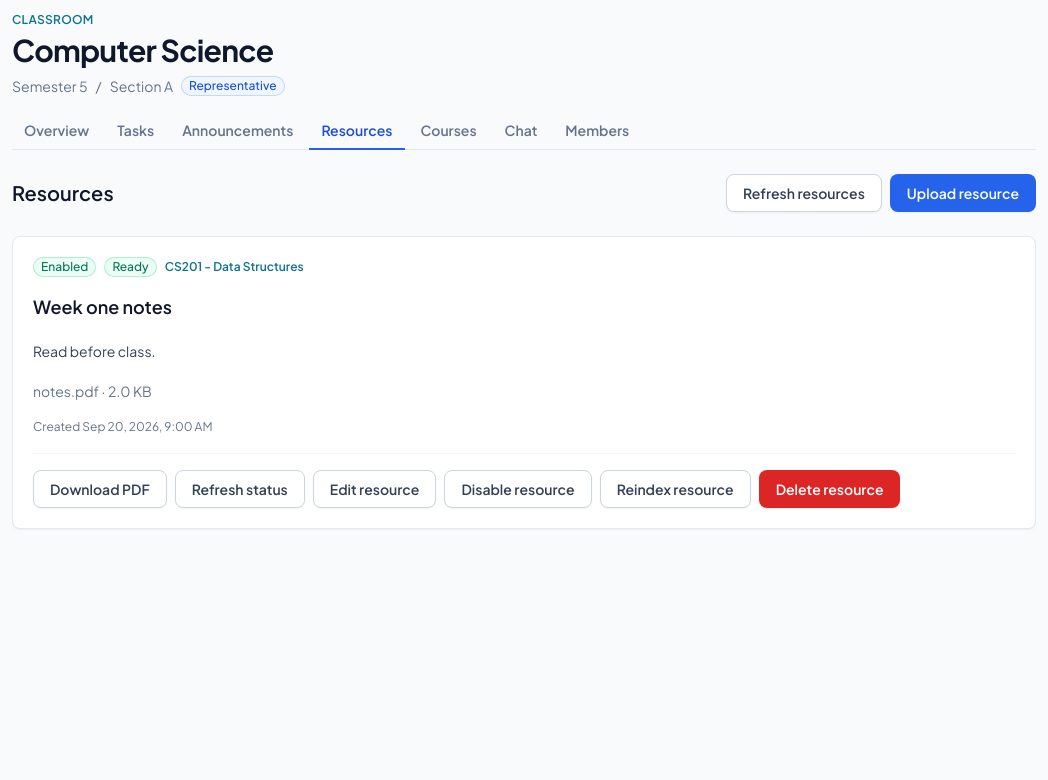
Test: class resources › shows conflict errors from reindexing
Click the button "Reindex resource" at (675, 489), box top-left (600, 470), bottom-right (751, 508)
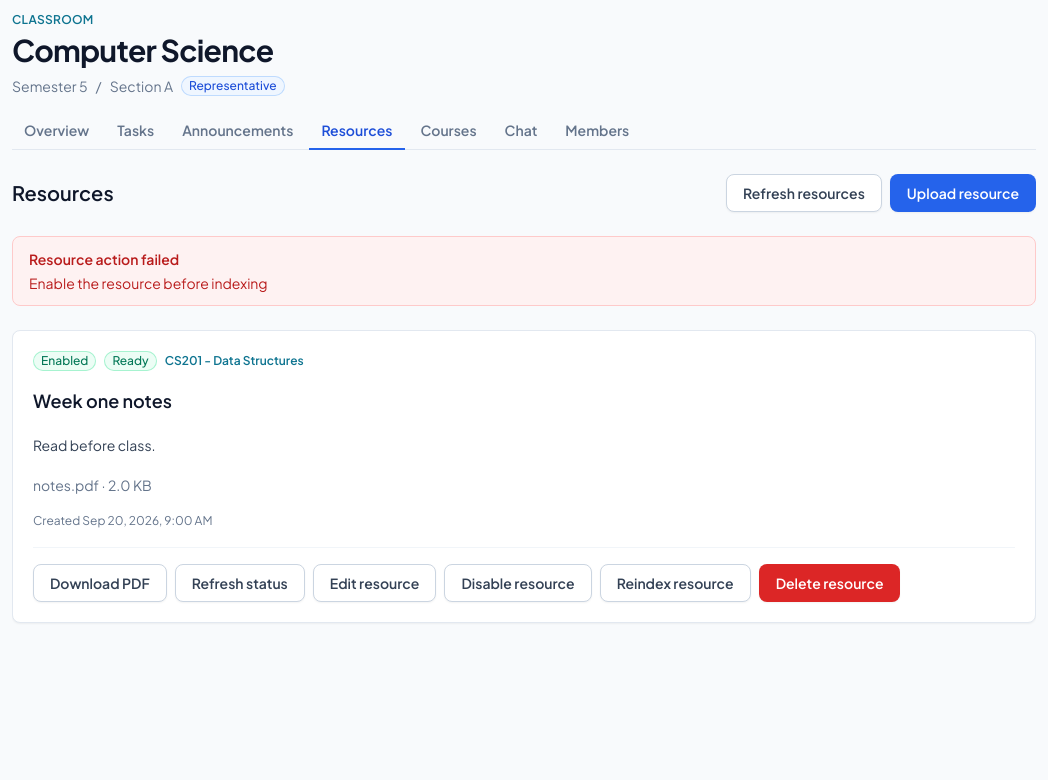
Check: the message shows "Enable the resource before indexing", box top-left (29, 274), bottom-right (268, 292)
